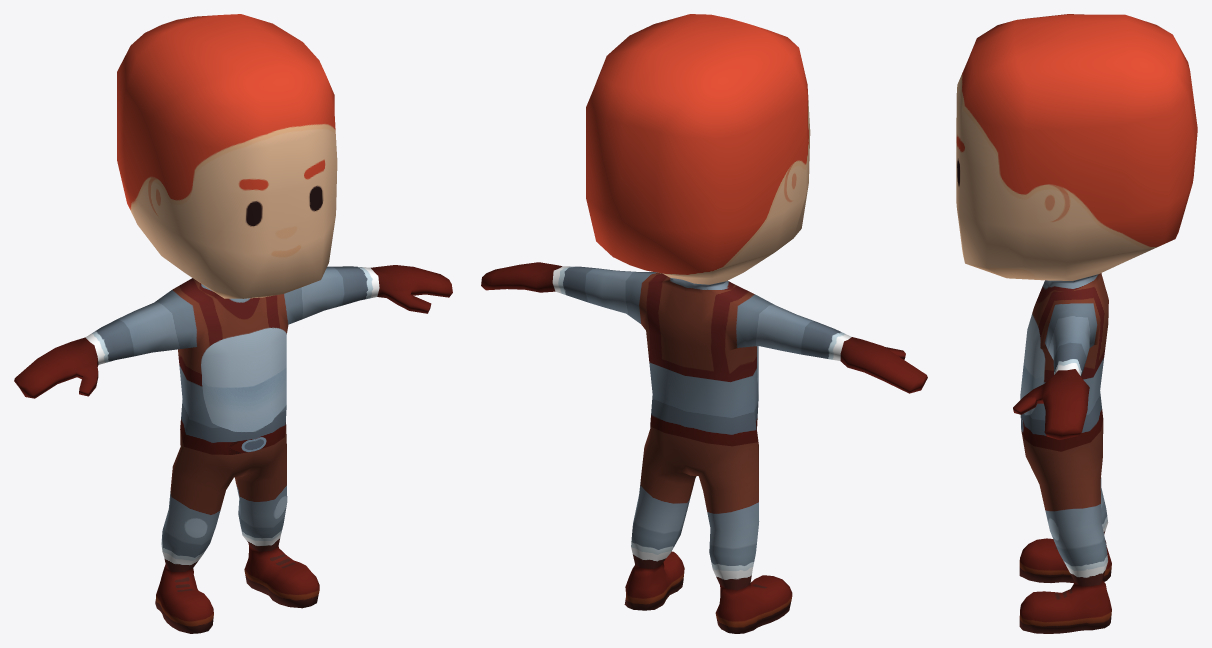
The model's file is hito.fbx.
3 views of the same model, side by side, from view 1: azimuth 30°, elevation 25°; view 2: azimuth 150°, elevation 25°; view 3: azimuth 270°, elevation 25° (orthographic).
Visible parts, largest first — view 1: characterSmall; view 2: characterSmall; view 3: characterSmall.
Boxes of the visible parts, bbox=[...] form: characterSmall: bbox=[14, 14, 452, 633]; characterSmall: bbox=[481, 14, 927, 633]; characterSmall: bbox=[956, 14, 1197, 633].
Size of the model in its own units: 2.9 by 3.62 by 1.39.
Materials: 1 (1 with a texture image).
